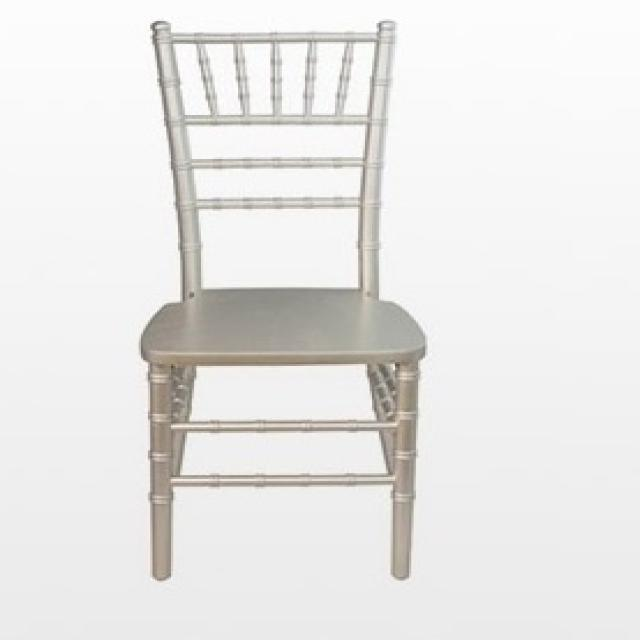chair: (134, 19, 430, 594)
